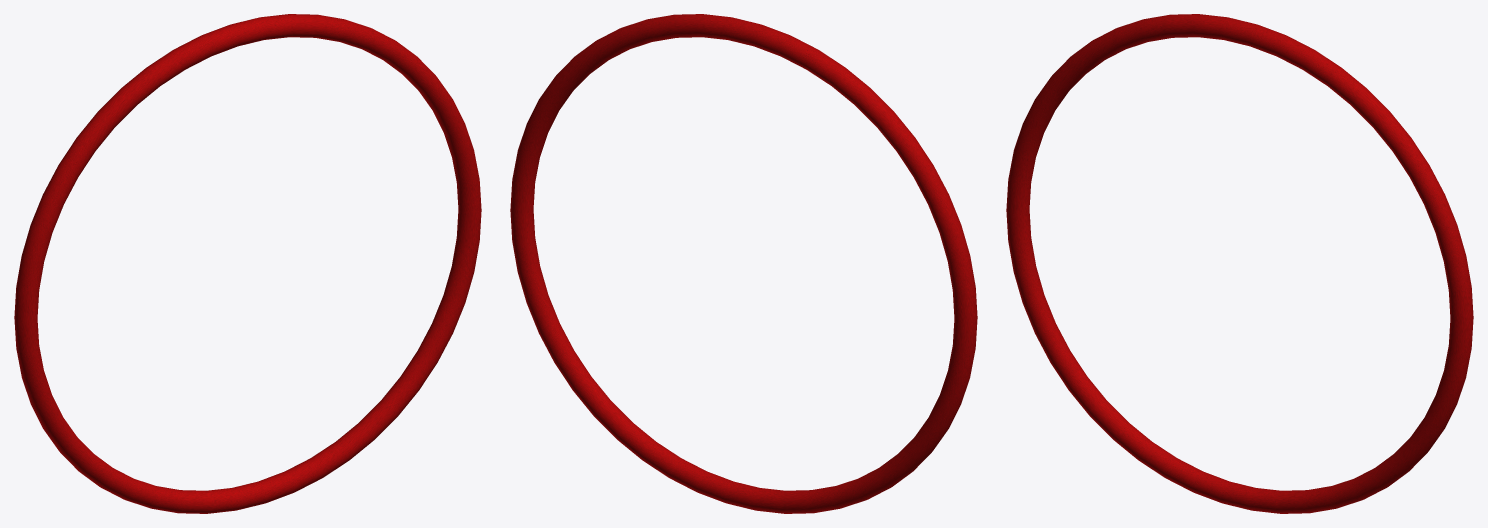
The model's file is ring.obj.
3 views of the same model, side by side, from view 1: azimuth 30°, elevation 25°; view 2: azimuth 150°, elevation 25°; view 3: azimuth 330°, elevation 25° (orthographic).
Parts seen in each view (by area): view 1: pTorus1; view 2: pTorus1; view 3: pTorus1.
Part boxes in pixels (x1,y1,x2,y2): pTorus1: [14, 14, 481, 513]; pTorus1: [510, 14, 977, 513]; pTorus1: [1006, 14, 1473, 513].
Bounding box in the file's own units: 23 × 22.95 × 1.
1 material, 1 textured.
